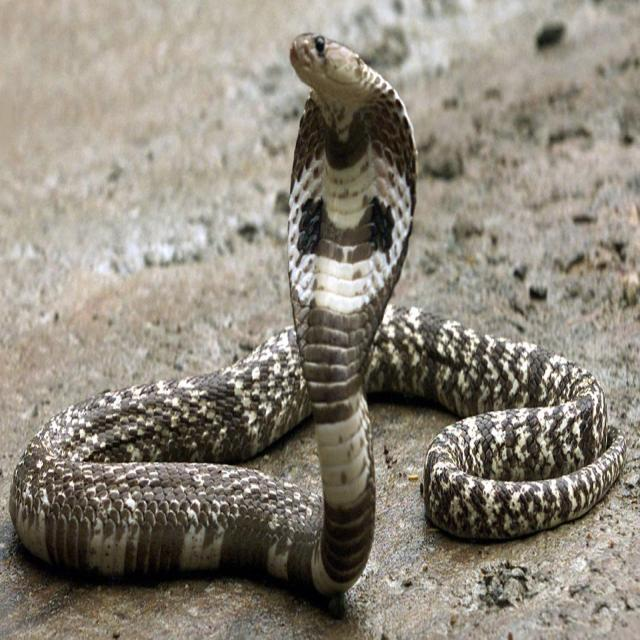Snake: (9, 6, 636, 612)
